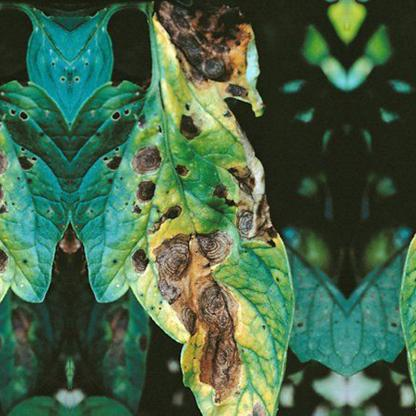Early-Blight: (74, 75, 302, 415), (0, 75, 64, 415), (138, 0, 282, 118), (80, 288, 156, 402), (0, 288, 57, 401)
